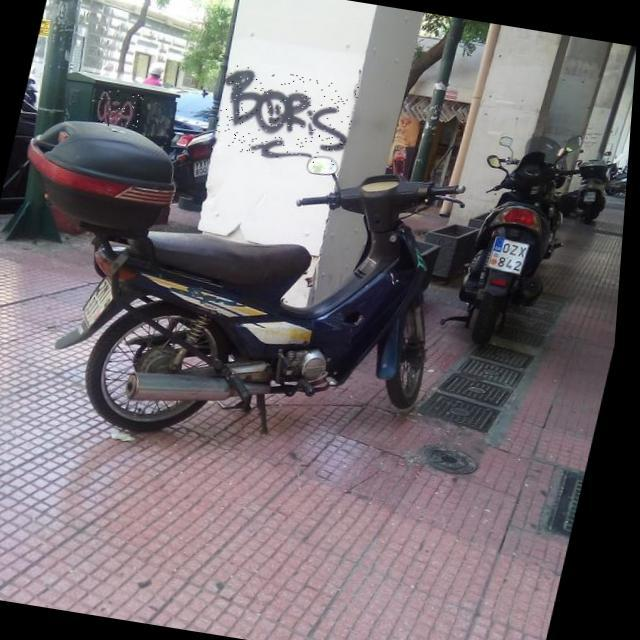-: (211, 64, 363, 168), (94, 88, 146, 130)
